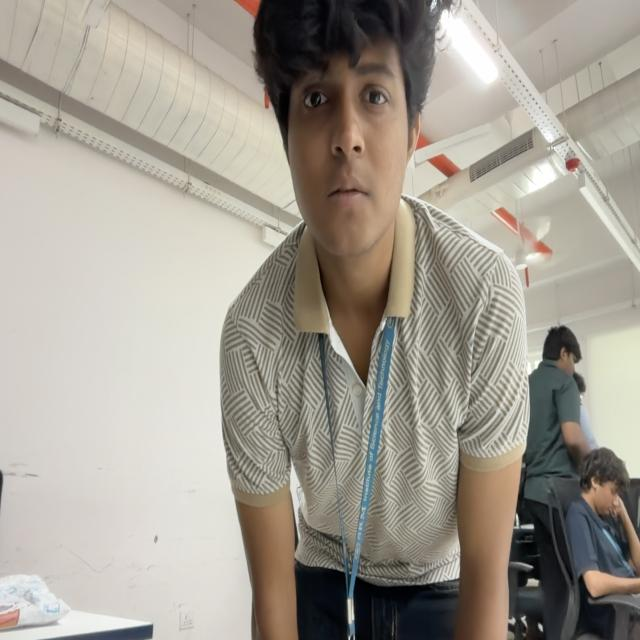kshitij: (253, 1, 444, 256)
